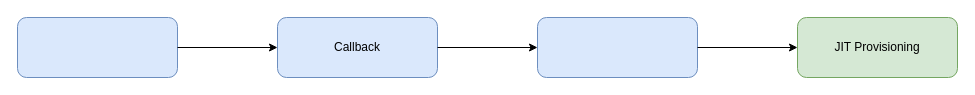
The diagram is 975 pixels wide and 95 high, and some of its shapes have lost their labels. The shapes that lost their labels are listed below. From the top down, each one's centre as x and y in pixels, then its label:
At [97,47]: "Authorize".
At [617,47]: "Verify JWT & Nonce".
